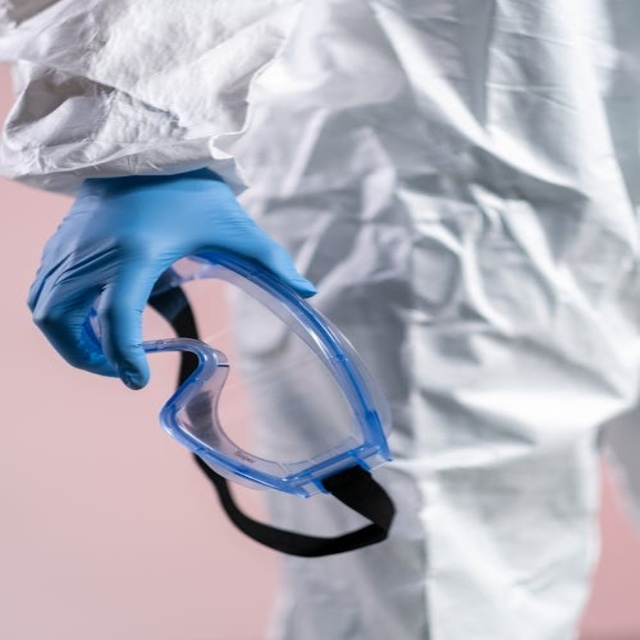Guantes: (28, 168, 321, 388)
